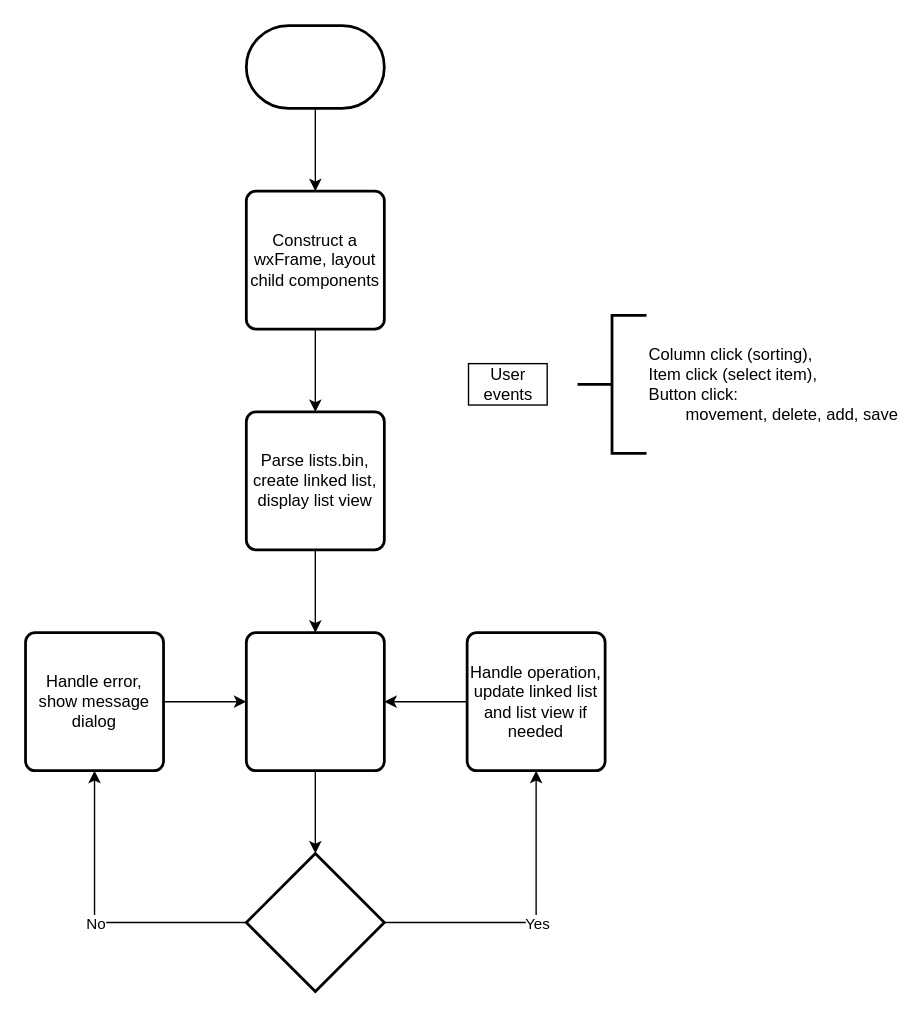
The diagram is 922 pixels wide and 1016 high, and some of its shapes have lost their labels. The centre of each missing label's shape, as x and y in pixels:
Start: (314,66)
Valid operation?: (314,921)
Wait for user events: (314,701)
